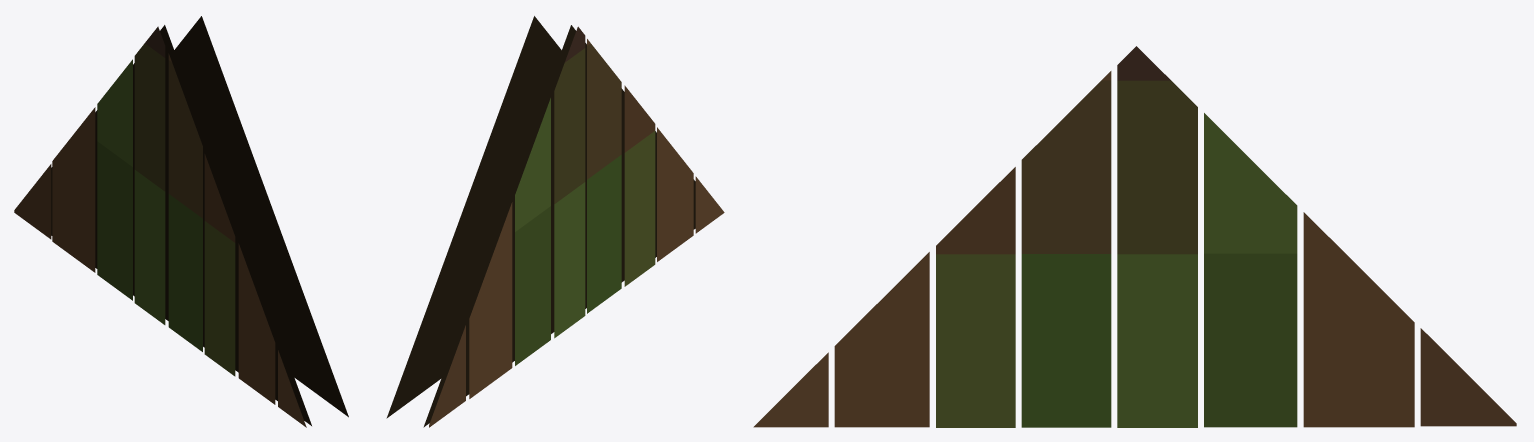
File: wall-mossy-gable-peak-steep.glb
3 views of the same model, side by side, from view 1: azimuth 30°, elevation 25°; view 2: azimuth 150°, elevation 25°; view 3: azimuth 270°, elevation 25° (orthographic). The views are drawn at different scales.
Parts seen in each view (by area): view 1: wall-mossy-gable-peak-steep; view 2: wall-mossy-gable-peak-steep; view 3: wall-mossy-gable-peak-steep.
Part boxes in pixels (<box>): wall-mossy-gable-peak-steep: <box>14,16,348,427</box>; wall-mossy-gable-peak-steep: <box>386,16,724,427</box>; wall-mossy-gable-peak-steep: <box>753,46,1516,427</box>.
Size of the model in its own units: 0.0985 by 0.55 by 1.
